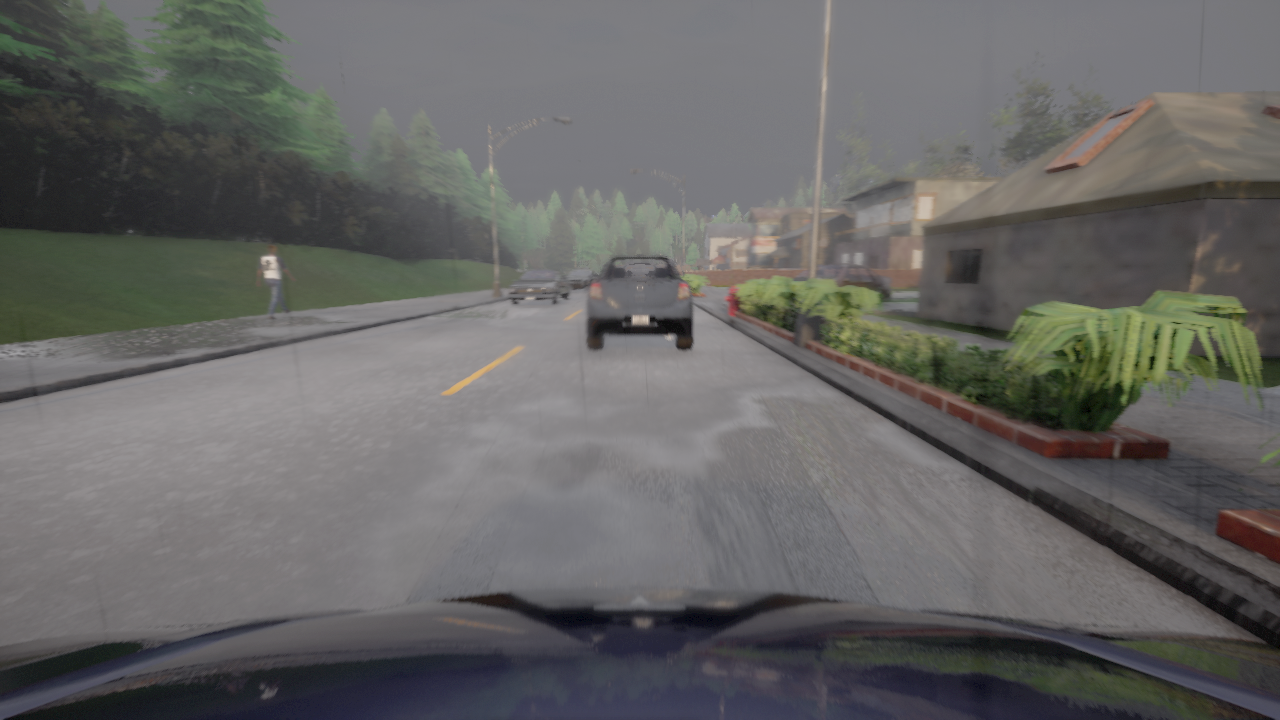cyclist: (0, 588, 1279, 719), (587, 255, 693, 348), (767, 264, 893, 304), (507, 269, 571, 304), (565, 267, 598, 290)
pedestrian: (257, 244, 295, 319)
